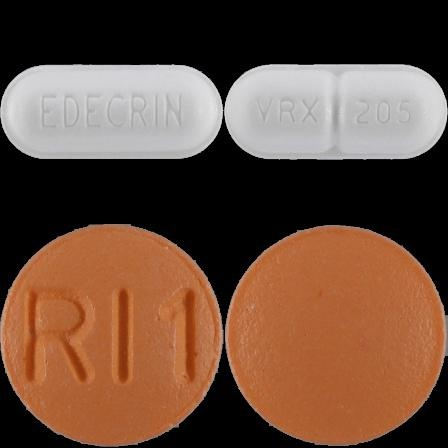25010-215: (0, 0, 224, 224)
